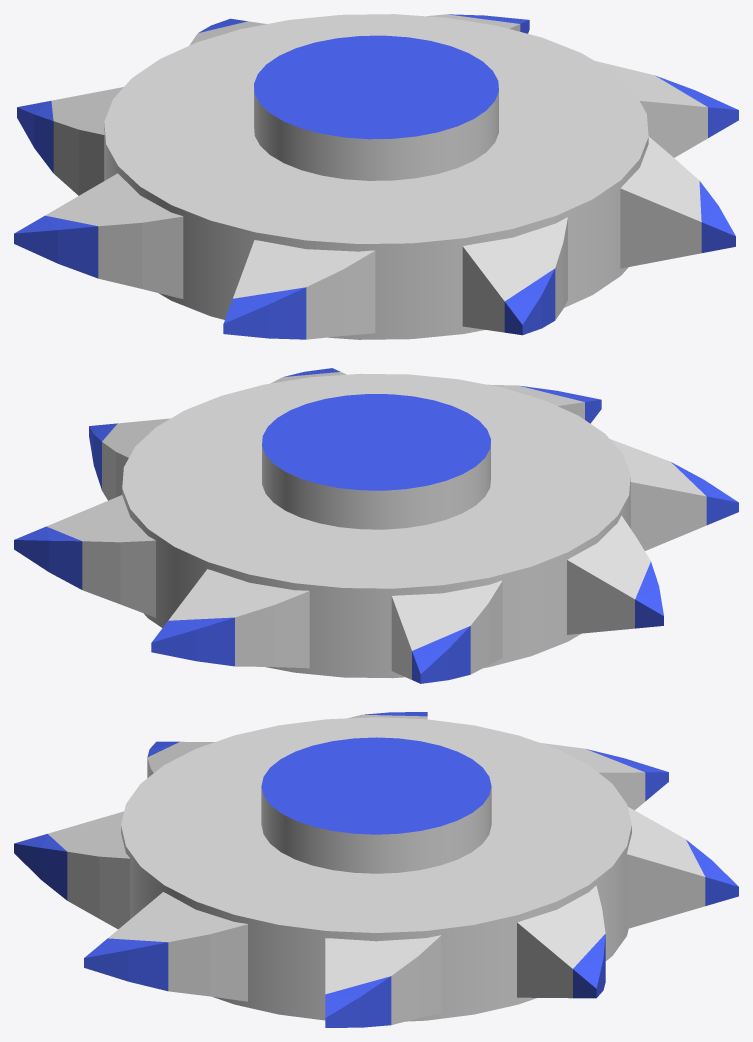
Rendered from Saw Blue.fbx.
3 views of the same model, one above another, from view 1: azimuth 30°, elevation 25°; view 2: azimuth 150°, elevation 25°; view 3: azimuth 270°, elevation 25° (orthographic). The views are drawn at different scales.
Parts seen in each view (by area): view 1: Saw Blue; view 2: Saw Blue; view 3: Saw Blue.
Boxes of the visible parts, box(x1,y1,x2,y2) form: Saw Blue: box(14, 14, 738, 339); Saw Blue: box(14, 368, 738, 683); Saw Blue: box(14, 712, 738, 1027).
Bounding box in the file's own units: 1.66 × 0.4233 × 1.66.
